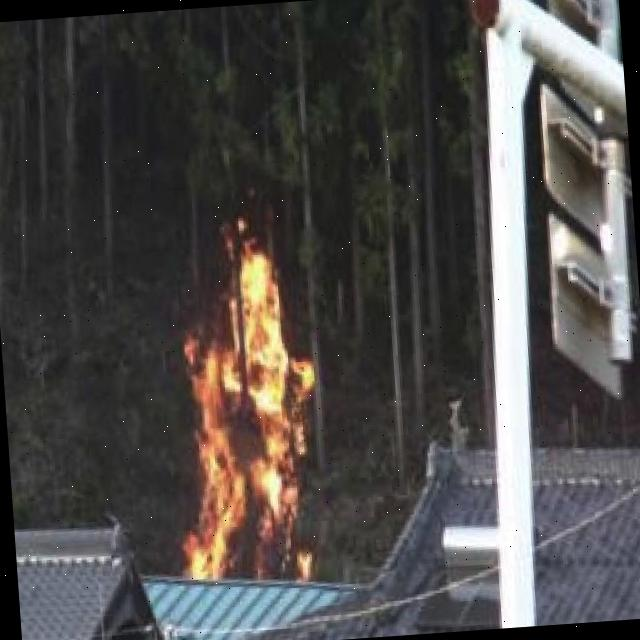fire: (165, 230, 334, 590)
